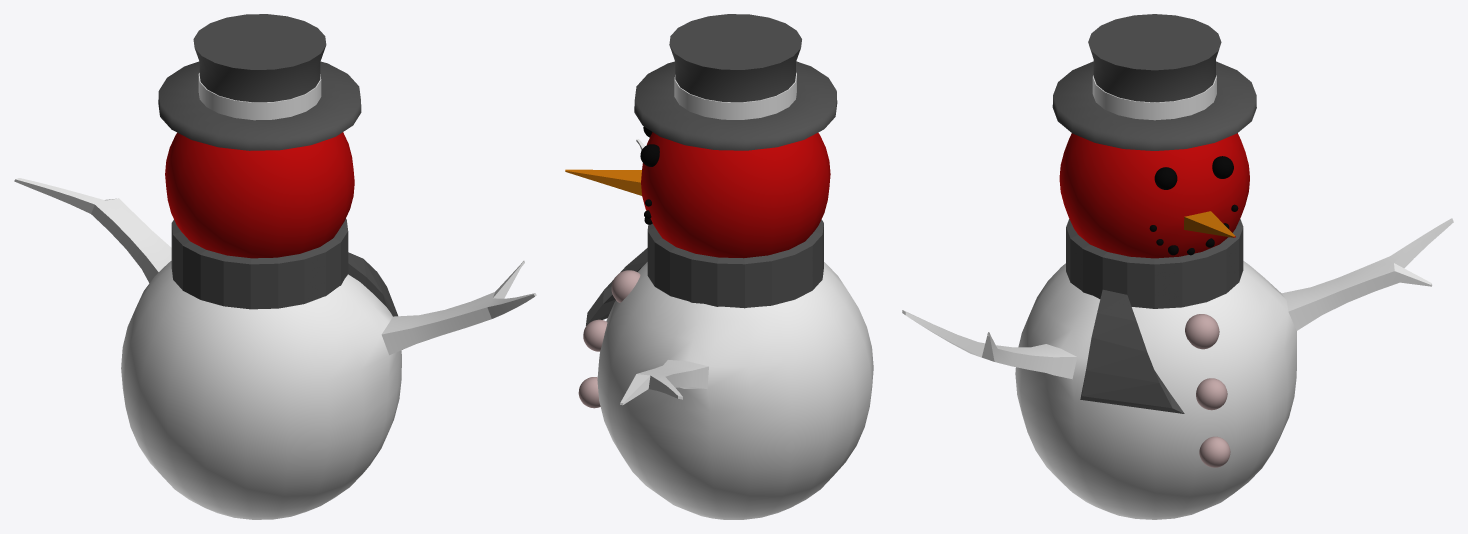
Rendered from SNOWMANMATERIALES.fbx.
The picture shows the model from 3 angles, left to right: view 1: azimuth 30°, elevation 25°; view 2: azimuth 150°, elevation 25°; view 3: azimuth 270°, elevation 25°; orthographic projection.
Visible parts, largest first — view 1: pSphere1, pCylinder1, pSphere2, pCylinder2; view 2: pSphere1, pCylinder1, pSphere2, pCylinder2, pSphere6, pSphere7, pSphere8, pSphere5; view 3: pSphere1, pCylinder1, pSphere2, pCylinder2, pSphere6, pSphere7, pSphere8.
Boxes of the visible parts, <box> form: pSphere1: <box>14,178,536,519</box>; pCylinder1: <box>158,14,361,150</box>; pSphere2: <box>165,132,354,258</box>; pCylinder2: <box>171,218,397,316</box>; pSphere1: <box>597,139,873,519</box>; pCylinder1: <box>634,14,837,150</box>; pSphere2: <box>565,132,830,258</box>; pCylinder2: <box>586,219,823,325</box>; pSphere6: <box>611,270,640,302</box>; pSphere7: <box>583,319,607,351</box>; pSphere8: <box>578,377,600,408</box>; pSphere5: <box>640,144,659,166</box>; pSphere1: <box>902,218,1453,519</box>; pCylinder1: <box>1052,14,1256,150</box>; pSphere2: <box>1059,133,1249,258</box>; pCylinder2: <box>1066,219,1243,413</box>; pSphere6: <box>1185,314,1219,349</box>; pSphere7: <box>1196,378,1227,410</box>; pSphere8: <box>1199,436,1230,467</box>.
Bounding box in the file's own units: 1.44 × 2.12 × 2.28.
